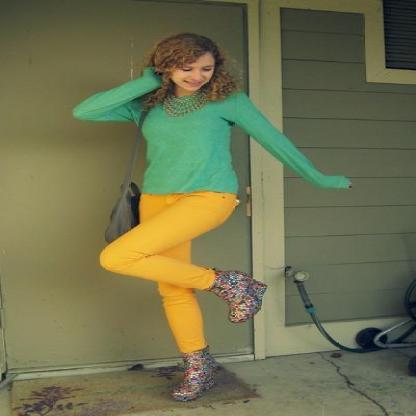bag: (104, 192, 140, 238)
jacket: (73, 75, 349, 194)
pants: (100, 191, 238, 353)
shoe: (173, 266, 266, 396)
